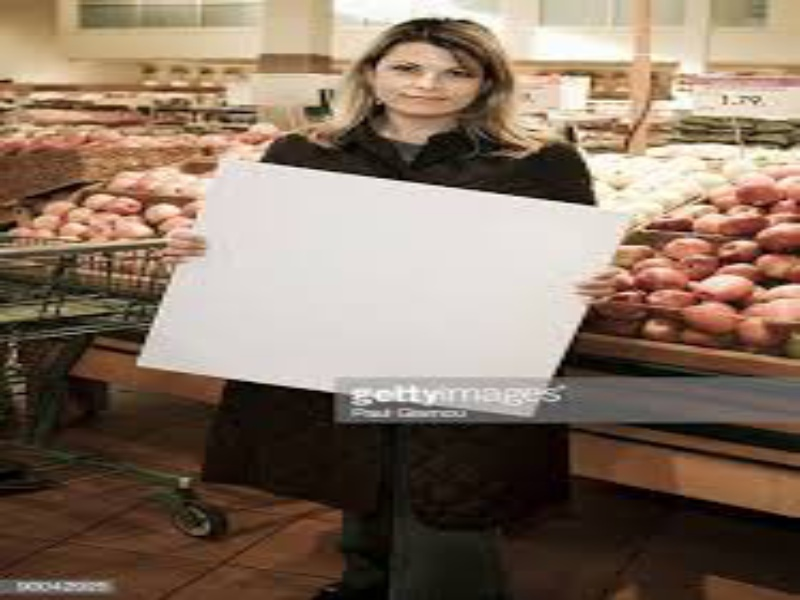TsisyArotava: (338, 9, 512, 138)
